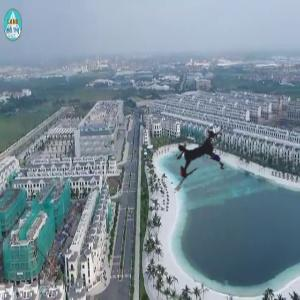drone: (141, 99, 259, 217)
